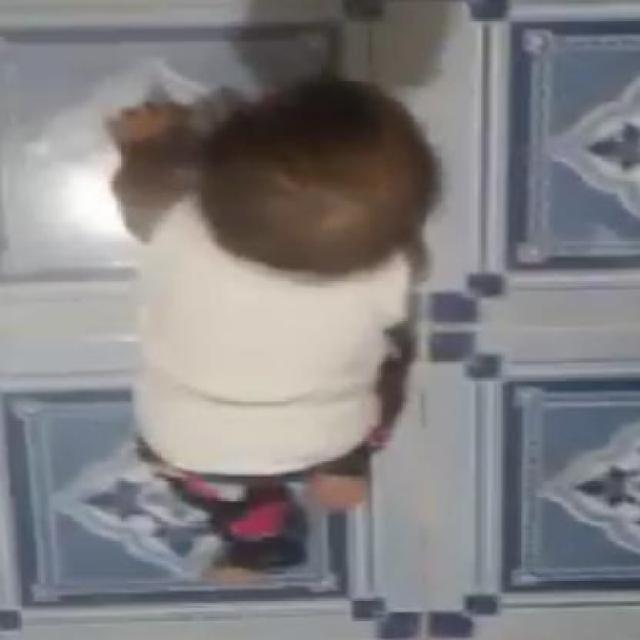baby: (102, 74, 440, 571)
